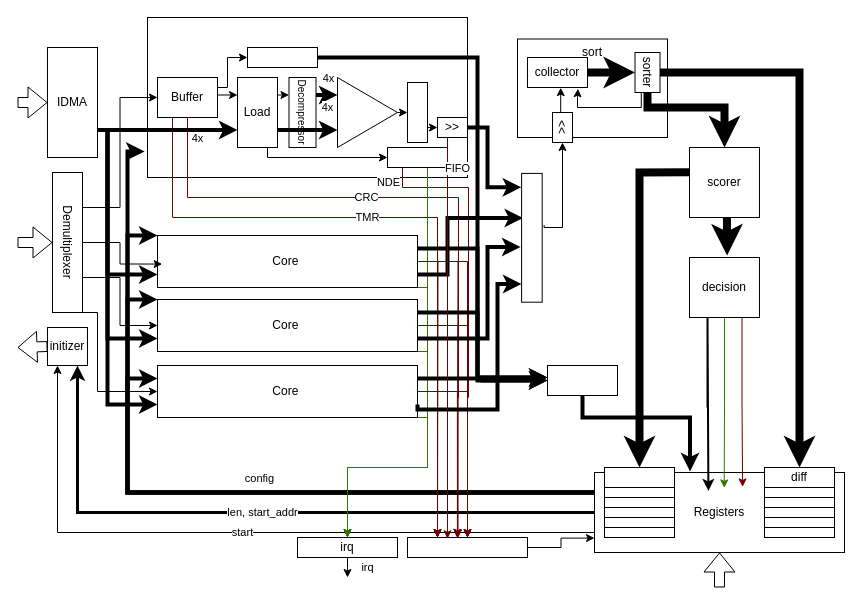
The diagram is 862 pixels wide and 605 high, and some of its shapes have lost their labels. Each missing label, with the box of its shape:
Catgegory: (406, 82, 428, 142)
Core \: (146, 16, 468, 178)
core_collect: (521, 172, 542, 302)
CRC-32: (246, 46, 318, 68)
CRC_sum: (546, 364, 618, 396)
Diffrence: (336, 76, 398, 148)
error_catch: (406, 536, 528, 558)
Final: (386, 146, 448, 168)
scores: (604, 466, 674, 488)
